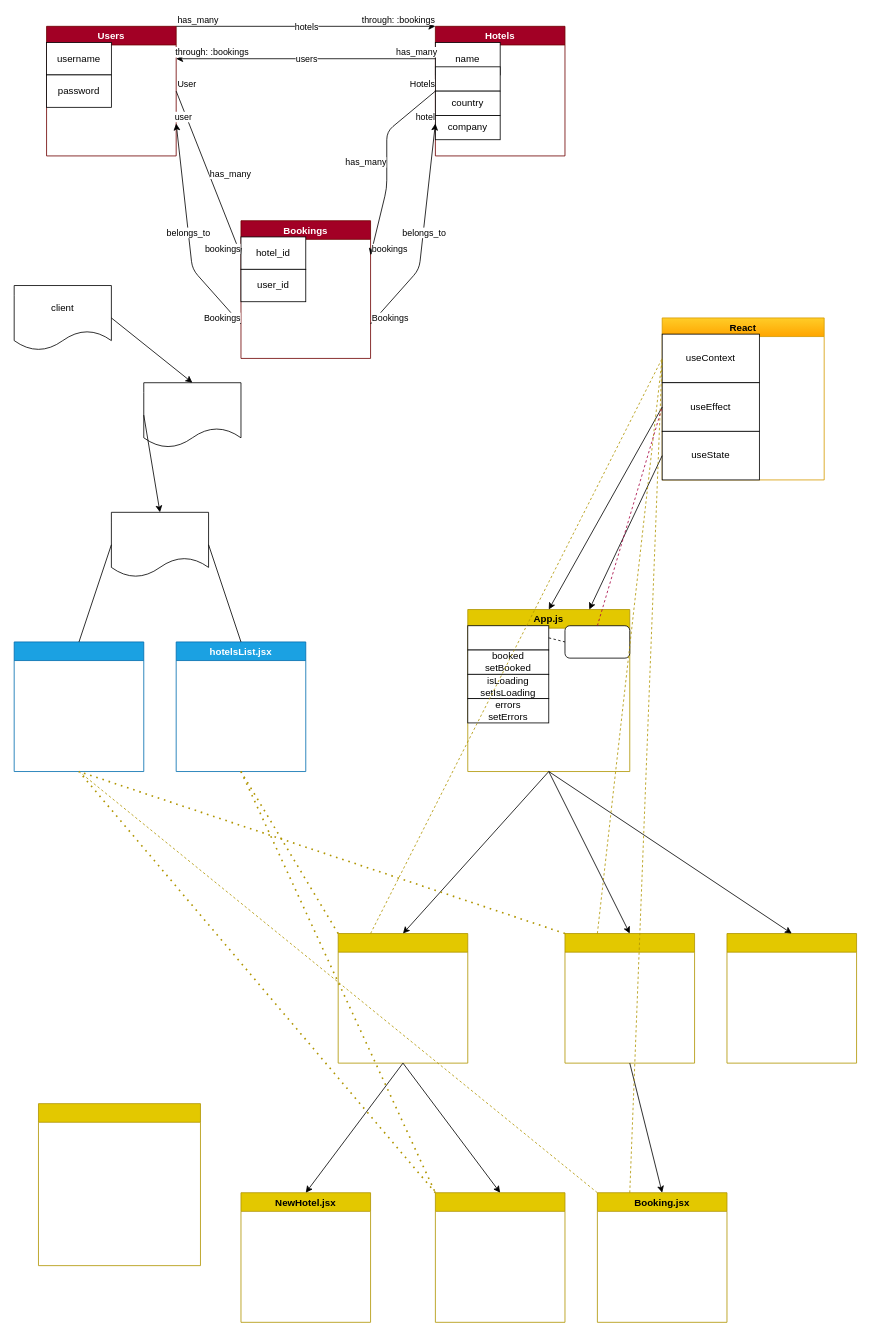
This 871x1337 diagram has some shape labels left out. Here are the shapes that lost their labels. From the top down, the centre of each, then its label:
the point at 467,78: city
the point at 192,415: src
the point at 160,544: context
the point at 508,637: currentUser setCurrentUser
the point at 597,641: fetch("/me")
the point at 78,706: bookingsList.jsx
the point at 402,998: Hotels.jsx
the point at 629,998: Bookings.jsx
the point at 791,998: Home.jsx
the point at 119,1184: Vertical Container
the point at 500,1257: Hotel.jsx
